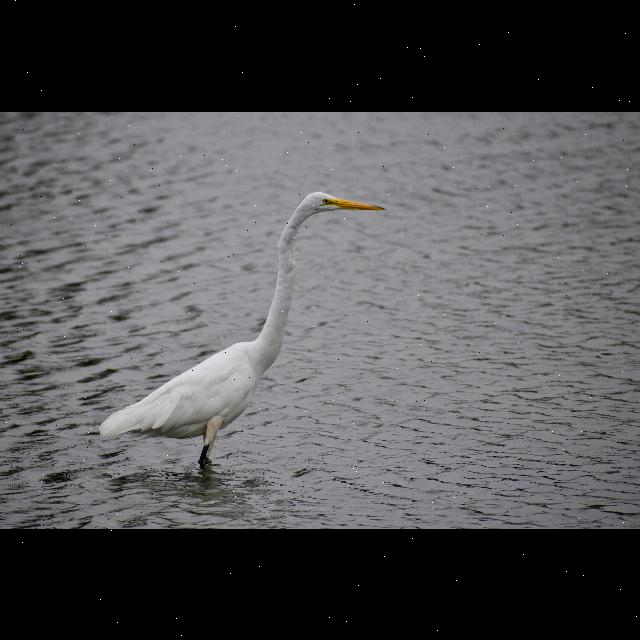egret: (87, 182, 386, 480)
